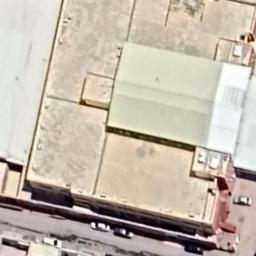SUV: (43, 237, 62, 248)
pickup: (234, 195, 252, 207)
sedan: (113, 226, 134, 240), (89, 220, 111, 232), (184, 242, 204, 254)
